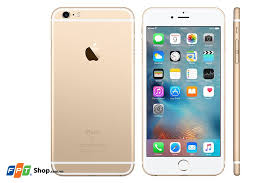iphone: (47, 2, 138, 177)
iphone6: (46, 3, 137, 178), (139, 3, 230, 178)
